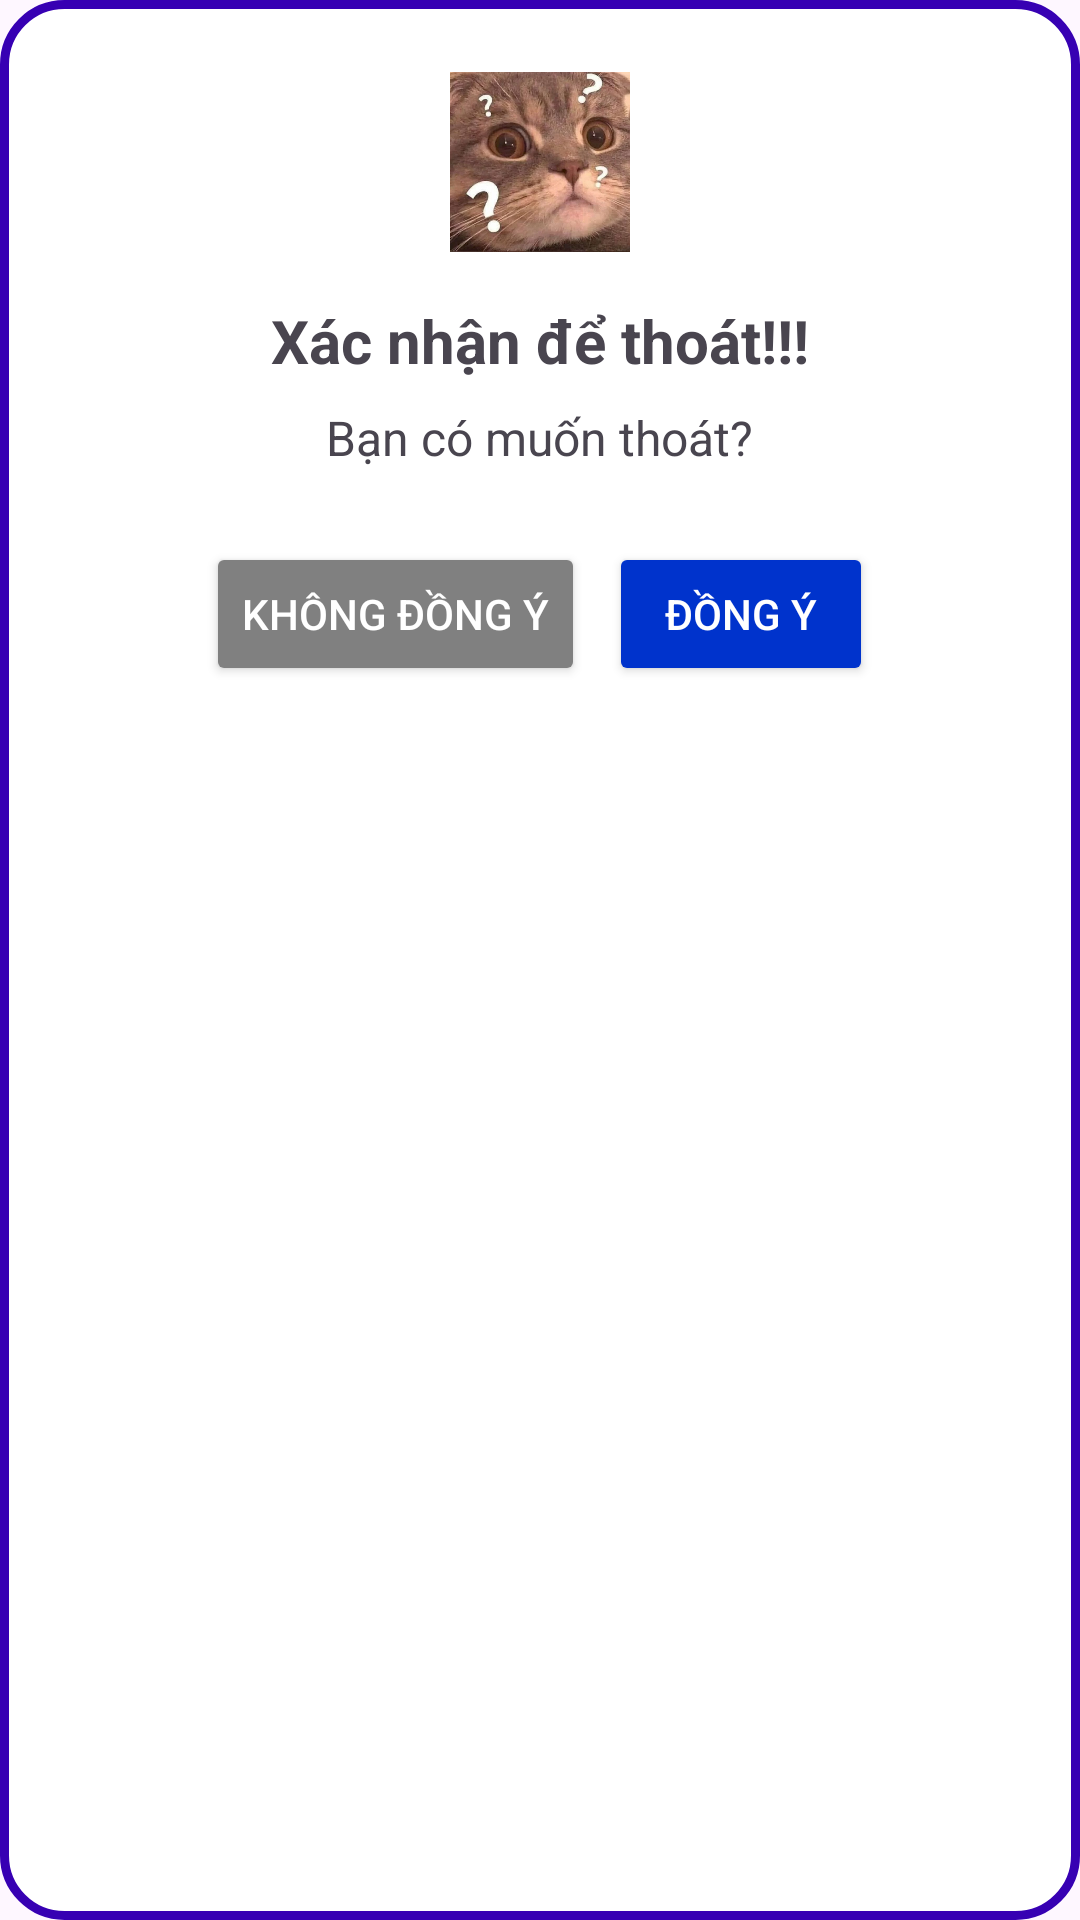

Point at icon controls on the screen. Image size 1080w x 1920h, points as point (x, y).
Biểu tượng câu hỏi: point (540, 162)
